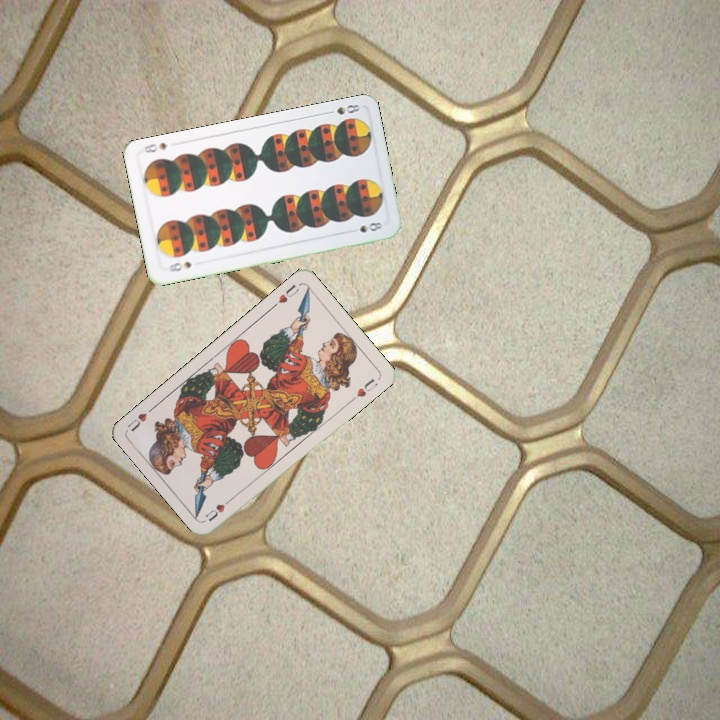HU: (201, 494, 236, 524), (269, 280, 302, 310)
S8: (322, 100, 363, 118), (164, 257, 194, 274)
